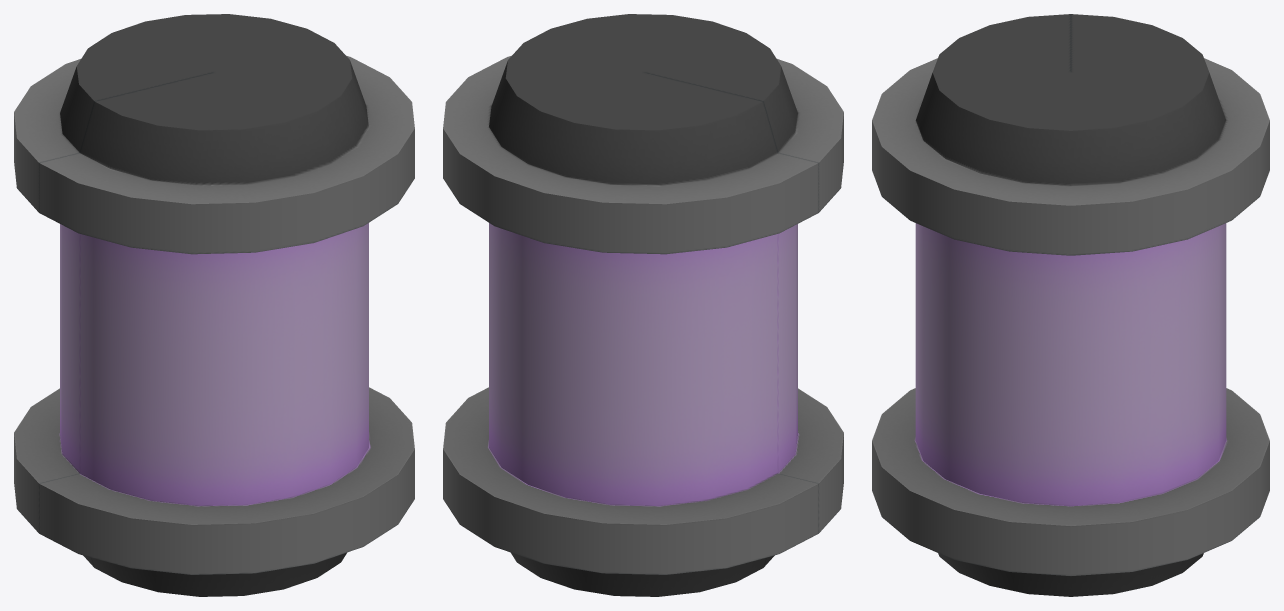
The model's file is vat 3.fbx.
The picture shows the model from 3 angles, left to right: view 1: azimuth 30°, elevation 25°; view 2: azimuth 150°, elevation 25°; view 3: azimuth 270°, elevation 25°; orthographic projection.
Parts seen in each view (by area): view 1: pCylinder2; view 2: pCylinder2; view 3: pCylinder2.
Boxes of the visible parts, x1=… form: pCylinder2: x1=14, y1=14, x2=414, y2=596; pCylinder2: x1=443, y1=14, x2=843, y2=596; pCylinder2: x1=872, y1=14, x2=1269, y2=596.
Size of the model in its own units: 104 by 132 by 102.
1 material, 1 textured.
